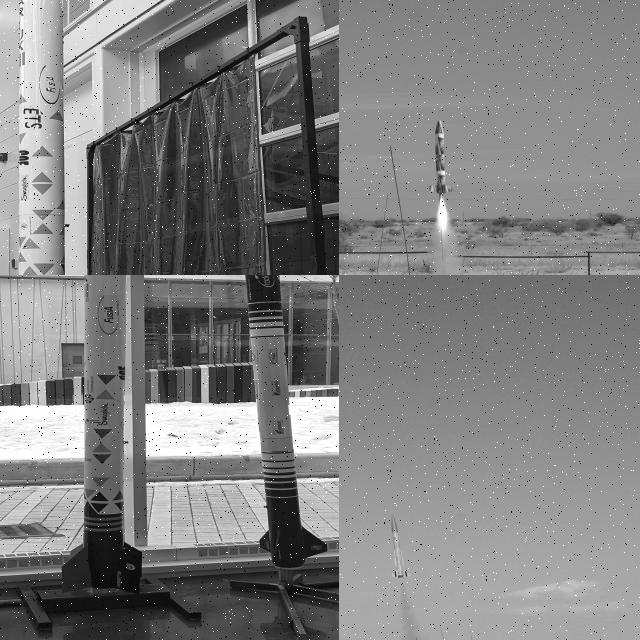Rocket: (61, 275, 143, 595), (245, 275, 327, 570), (18, 0, 65, 275), (428, 120, 454, 196), (390, 514, 411, 578)
